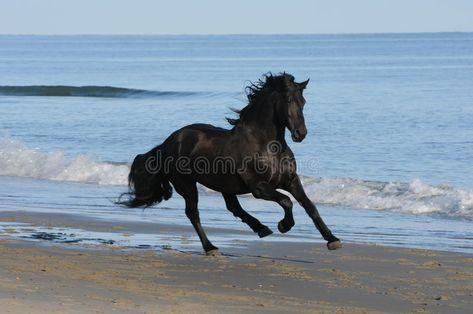horse: (112, 70, 342, 256)
